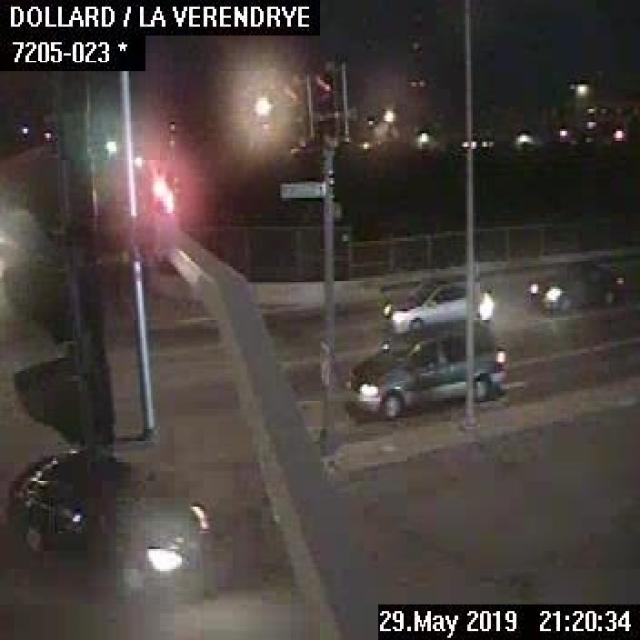vehicle: (6, 442, 218, 594), (344, 318, 507, 418), (381, 272, 496, 334), (526, 260, 624, 311), (467, 274, 469, 276)
